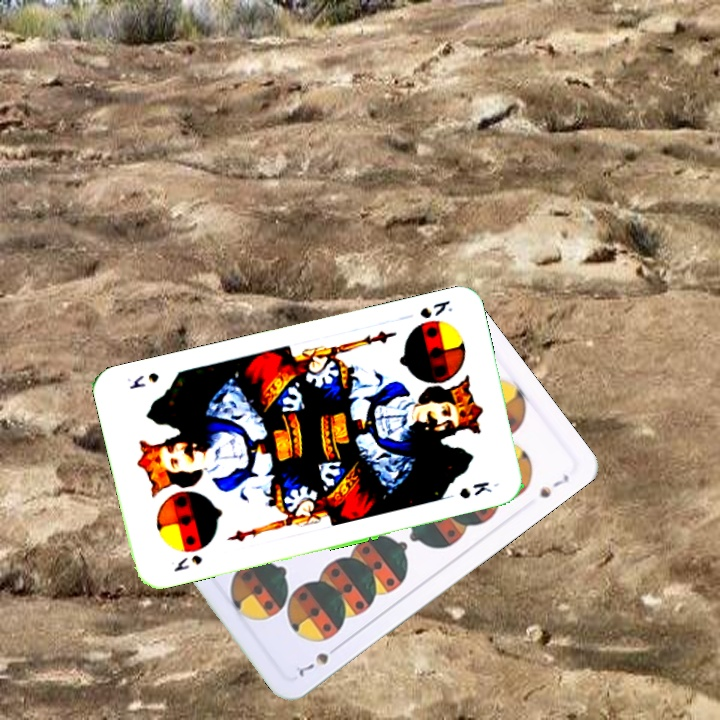S7: (294, 640, 343, 680)
SK: (416, 296, 456, 321), (170, 551, 205, 575)
